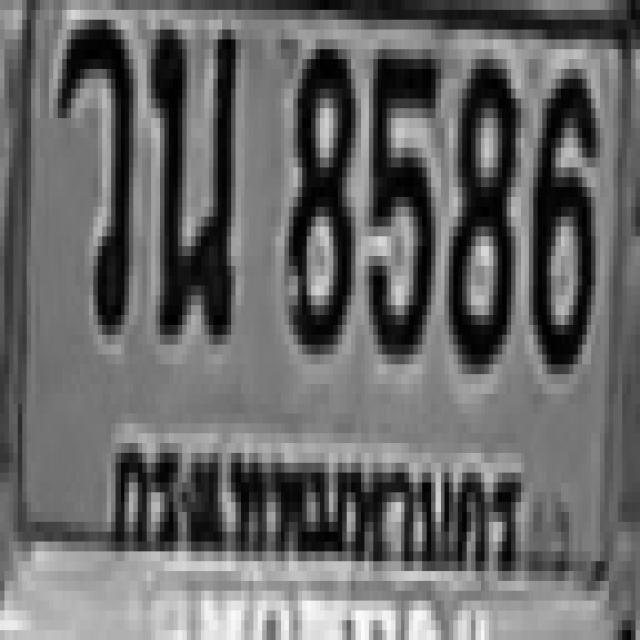34NorNu: (149, 15, 233, 330)
46WorWaen: (53, 10, 129, 325)
5: (364, 39, 436, 354)
6: (529, 59, 595, 364)
8: (447, 49, 513, 364), (285, 39, 351, 344)
Bangkok: (103, 408, 532, 606)
